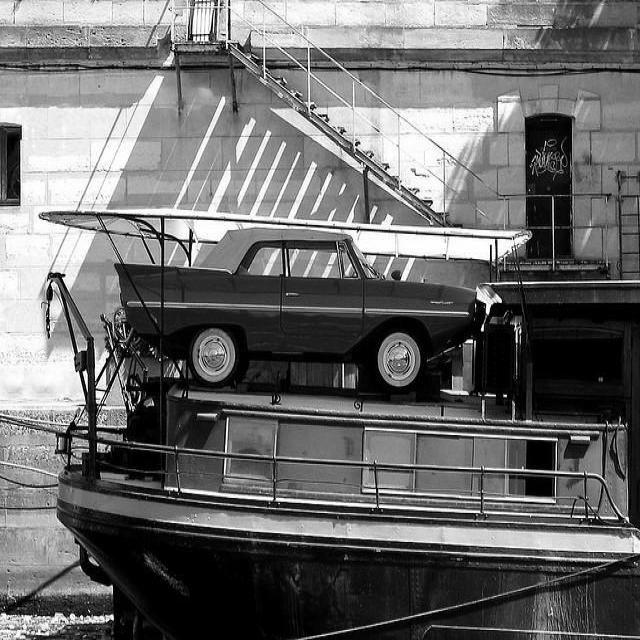vehicle: (113, 226, 479, 390)
